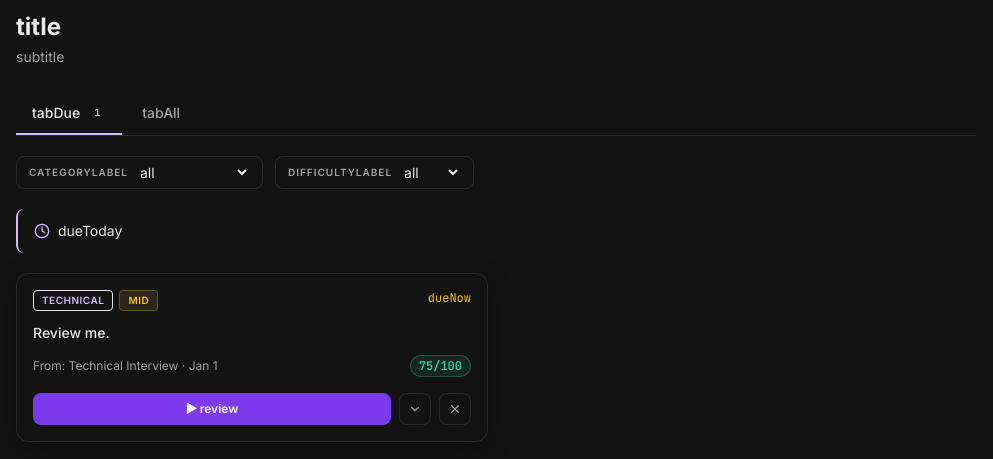
Scenario: BookmarksClient — mark as reviewed › optimistically moves bookmark out of the "due" tab after review
Expected: the text "Review me." is shown, left=33, top=324, right=110, bottom=341
What coordinates should you click on to do the following:
click the button "▶ review"
I would click on:
 (212, 409)
Its box is left=33, top=393, right=391, bottom=425.
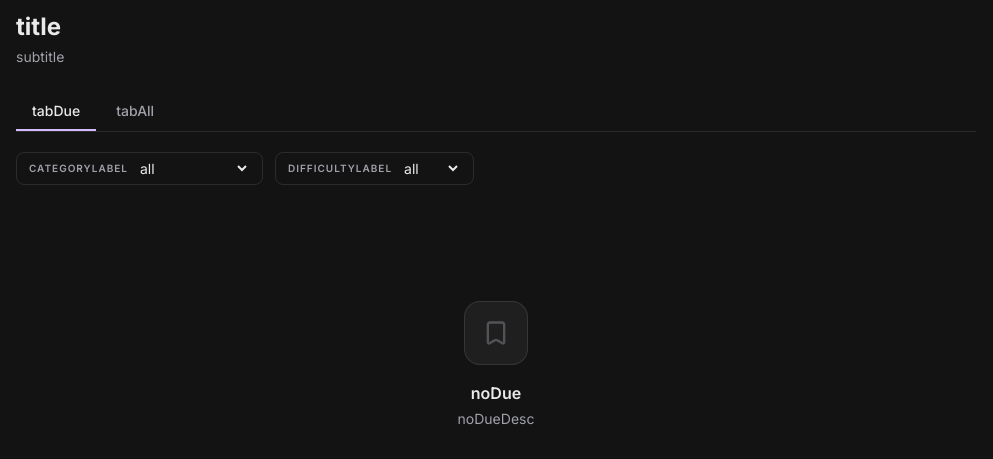
Result: the text "Review me." is gone
